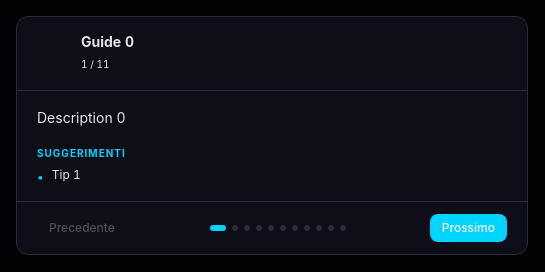
Test: GuideTour › advances to next step on next click
Click the button "Prossimo" at point(468, 228), box [430,214,507,242]
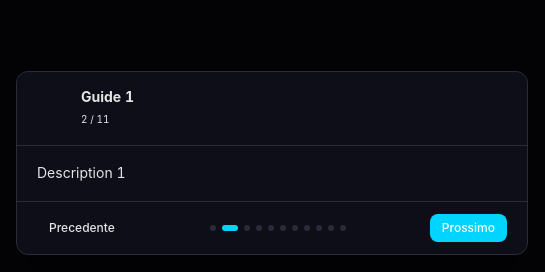
Now the heading "Guide 1" is shown, box [81,88,134,105]
Now the text "2 / 11" is shown, box [81,113,109,125]
